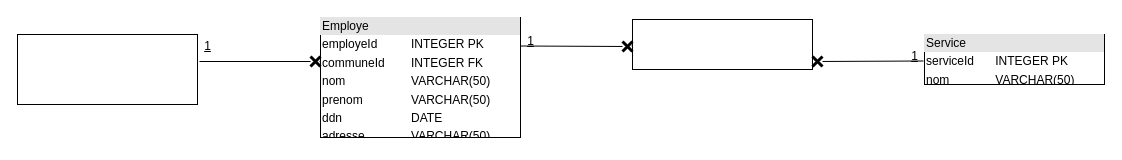
This 1122x160 diagram has some shape labels left out. The shapes that lost their labels are listed below. From the top down, each one's centre as x and y in pixels, then its label:
At pixel 722 44: "Travailler employeId INTEGER PK FK serviceId INTEGER PK FK".
At pixel 107 69: "Commune communeId INTEGER PK nom VARCHAR(50) cdp VARCHAR(50)".
